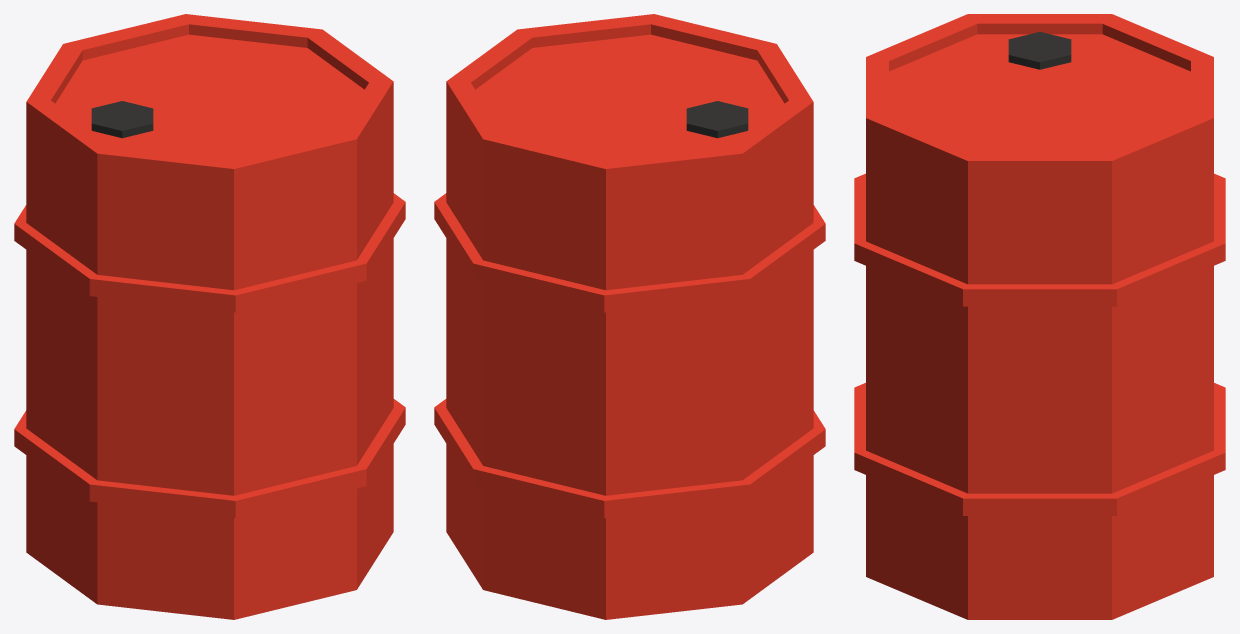
The model's file is Fuel_Barrel.fbx.
3 views of the same model, side by side, from view 1: azimuth 30°, elevation 25°; view 2: azimuth 150°, elevation 25°; view 3: azimuth 270°, elevation 25° (orthographic).
Visible parts, largest first — view 1: Fuel_Barrel; view 2: Fuel_Barrel; view 3: Fuel_Barrel.
Boxes of the visible parts, x1,y1,x2,y2 form: Fuel_Barrel: (14,14,405,619); Fuel_Barrel: (434,14,825,619); Fuel_Barrel: (854,14,1225,619).
Bounding box in the file's own units: 1.16 × 1.58 × 1.16.
Materials: 1 (1 with a texture image).
